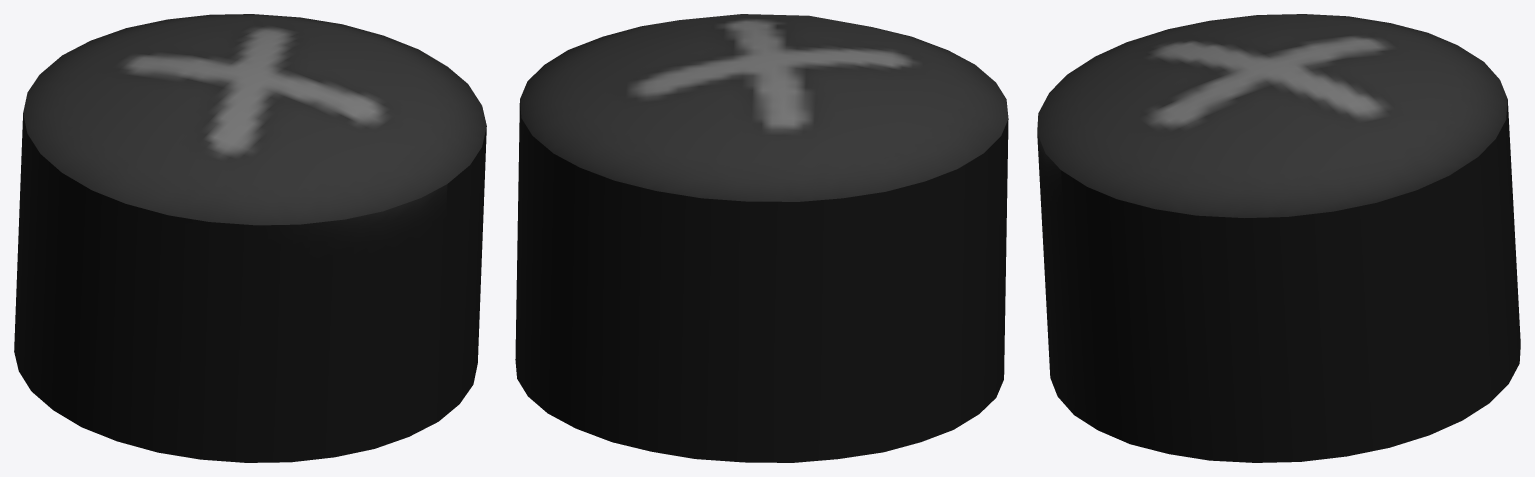
The picture shows the model from 3 angles, left to right: view 1: azimuth 30°, elevation 25°; view 2: azimuth 150°, elevation 25°; view 3: azimuth 270°, elevation 25°; orthographic projection. The views are drawn at different scales.
Parts seen in each view (by area): view 1: P_Controller_L:LX; view 2: P_Controller_L:LX; view 3: P_Controller_L:LX.
Part boxes in pixels (x1,y1,x2,y2): P_Controller_L:LX: (14, 14, 486, 462); P_Controller_L:LX: (515, 14, 1008, 462); P_Controller_L:LX: (1037, 14, 1520, 462).
Size of the model in its own units: 0.00964 by 0.00682 by 0.00984.
1 material, 1 textured.
